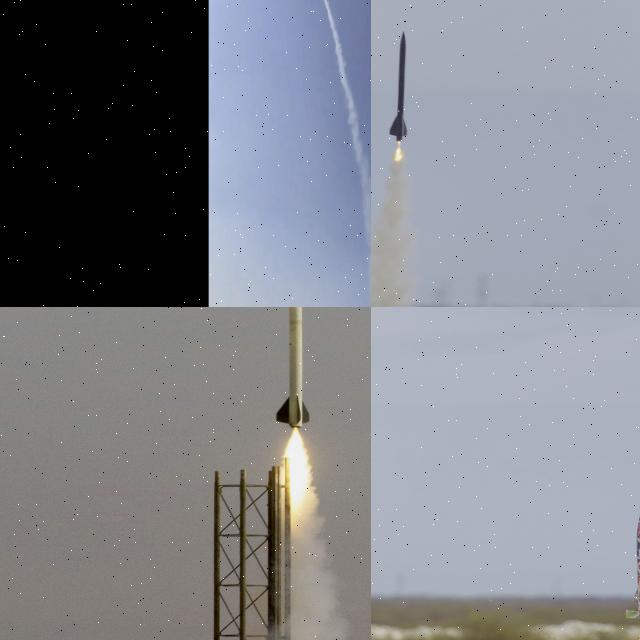Rocket: (274, 307, 311, 430), (390, 31, 409, 142), (625, 507, 640, 621)
